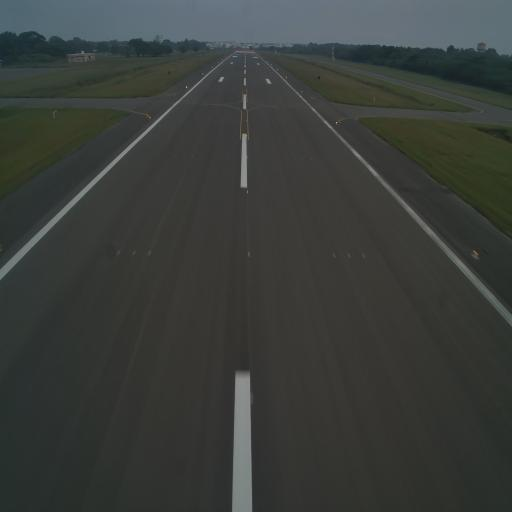off: (131, 246, 139, 260), (360, 250, 366, 262), (116, 246, 122, 257), (146, 246, 152, 257), (346, 250, 352, 261), (331, 250, 337, 260), (308, 155, 314, 162), (174, 152, 178, 160), (182, 151, 186, 159), (190, 152, 194, 160), (292, 154, 296, 162), (301, 156, 305, 163)
on: (472, 244, 480, 262), (246, 248, 253, 261), (245, 152, 249, 164), (246, 187, 250, 197), (245, 132, 249, 140), (148, 114, 152, 122), (335, 120, 339, 125)
